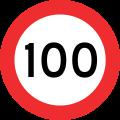Speed Limit -100-: (22, 39, 98, 83)
